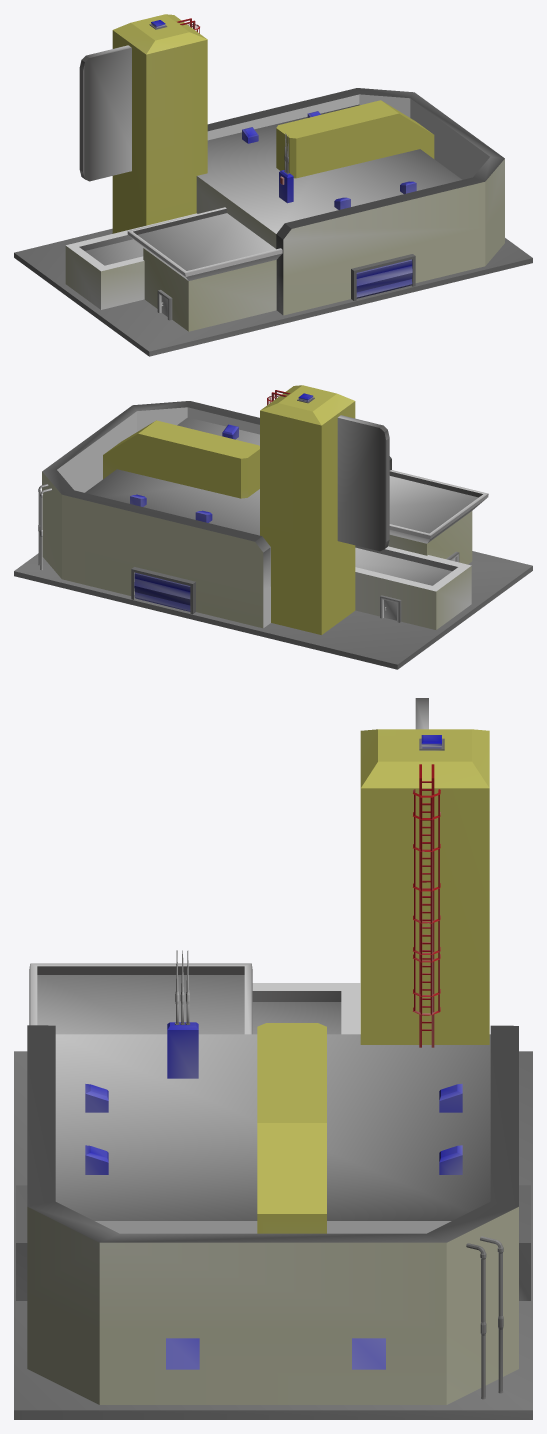
The model's file is edificacaoComercial.fbx.
3 views of the same model, one above another, from view 1: azimuth 30°, elevation 25°; view 2: azimuth 150°, elevation 25°; view 3: azimuth 270°, elevation 25° (orthographic). The views are drawn at different scales.
Visible parts, largest first — view 1: edifComercial; view 2: edifComercial; view 3: edifComercial.
Part boxes in pixels (x1,y1,x2,y2): edifComercial: [14, 14, 532, 356]; edifComercial: [14, 385, 532, 669]; edifComercial: [14, 698, 532, 1419].
Size of the model in its own units: 3910 by 2197 by 2388.
